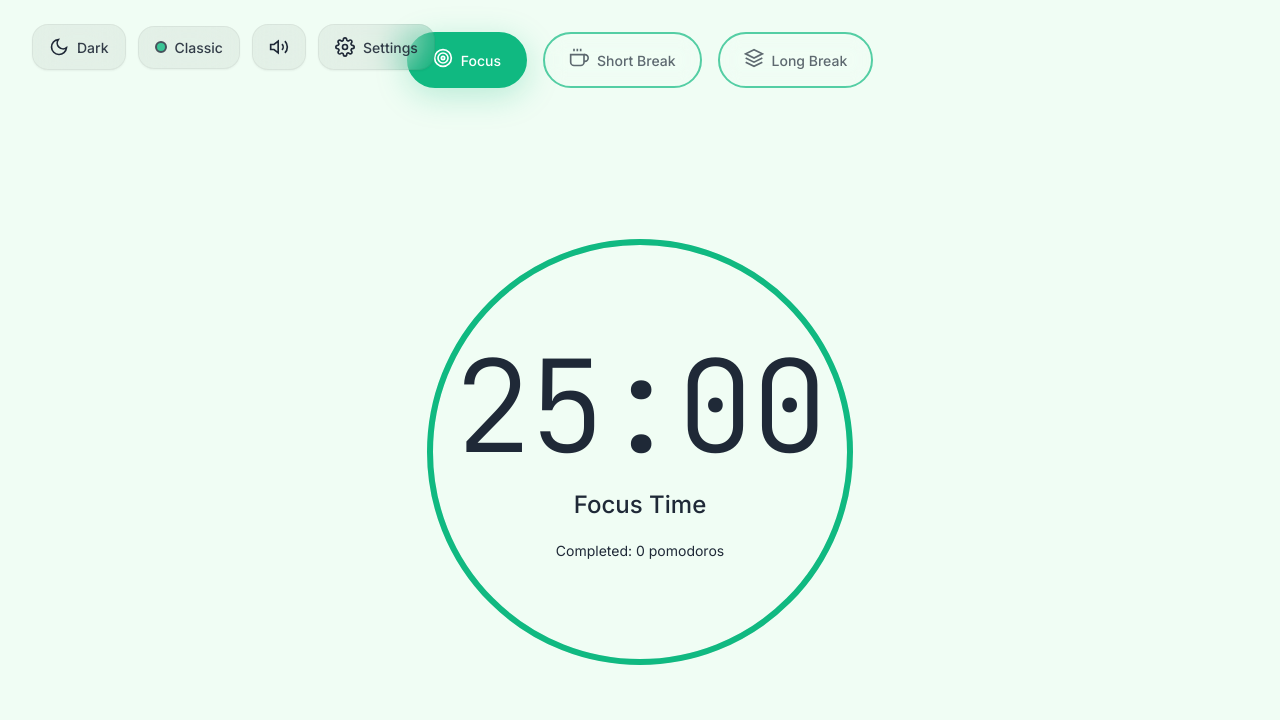
Test: Pomodoro Timer App › Settings Panel › closes settings panel when settings button is clicked again
Click the button "Settings": (376,47) [318,24,435,70]
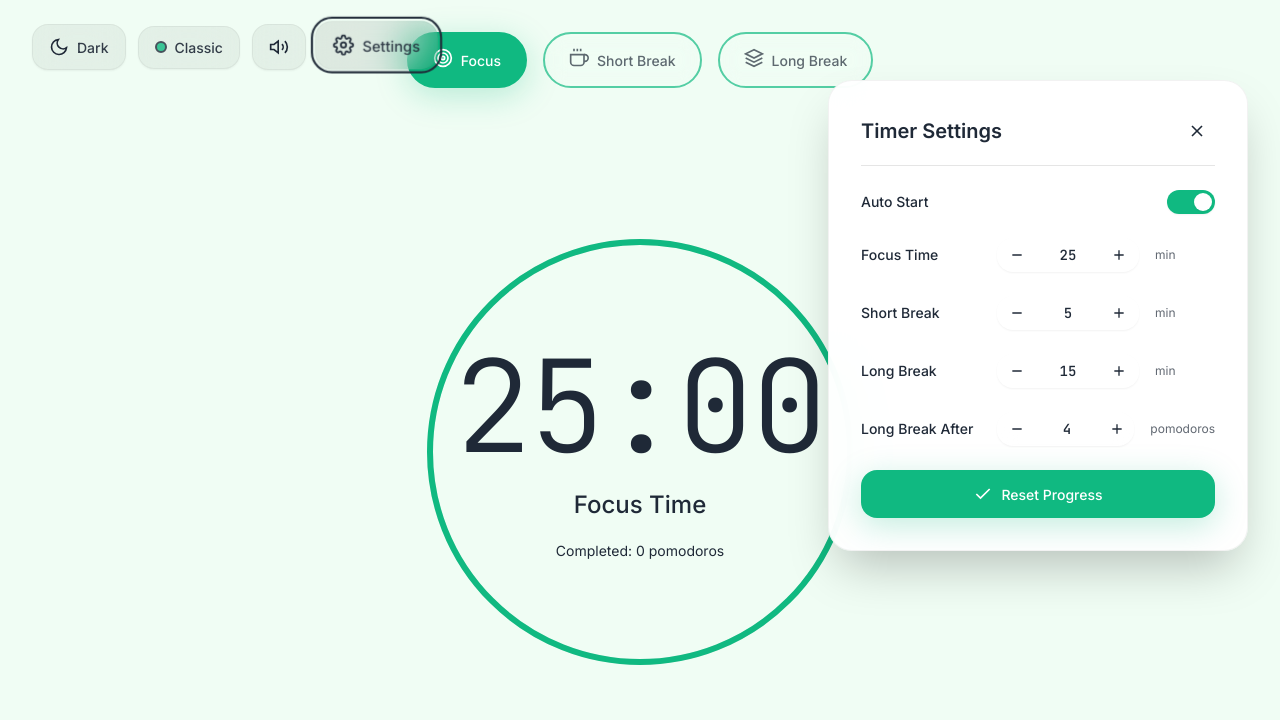
Check: the heading "Timer Settings" is shown, box [861,115,1002,147]
Click the button "Settings": (376,45) [315,21,438,69]
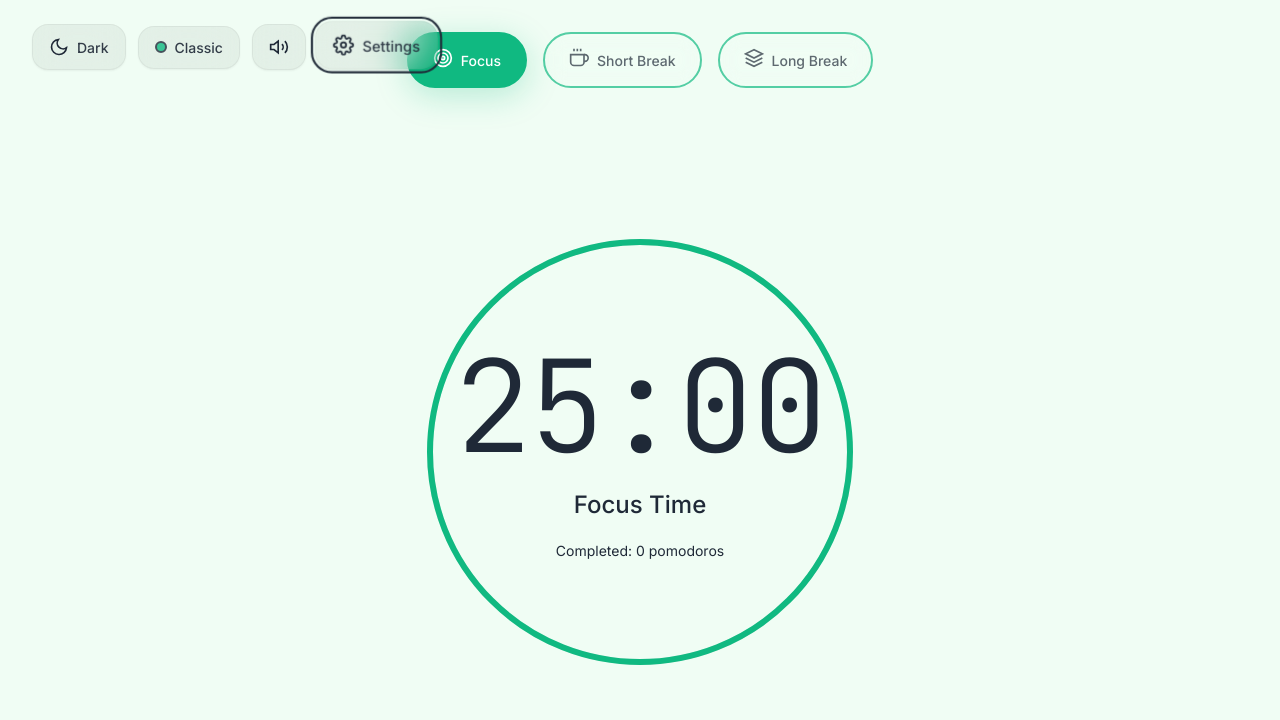
Check: the heading "Timer Settings" is gone
